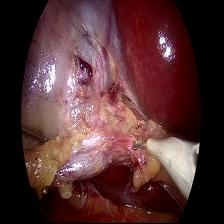Grasper: (22, 124, 49, 159)
Hook: (132, 132, 198, 198)
